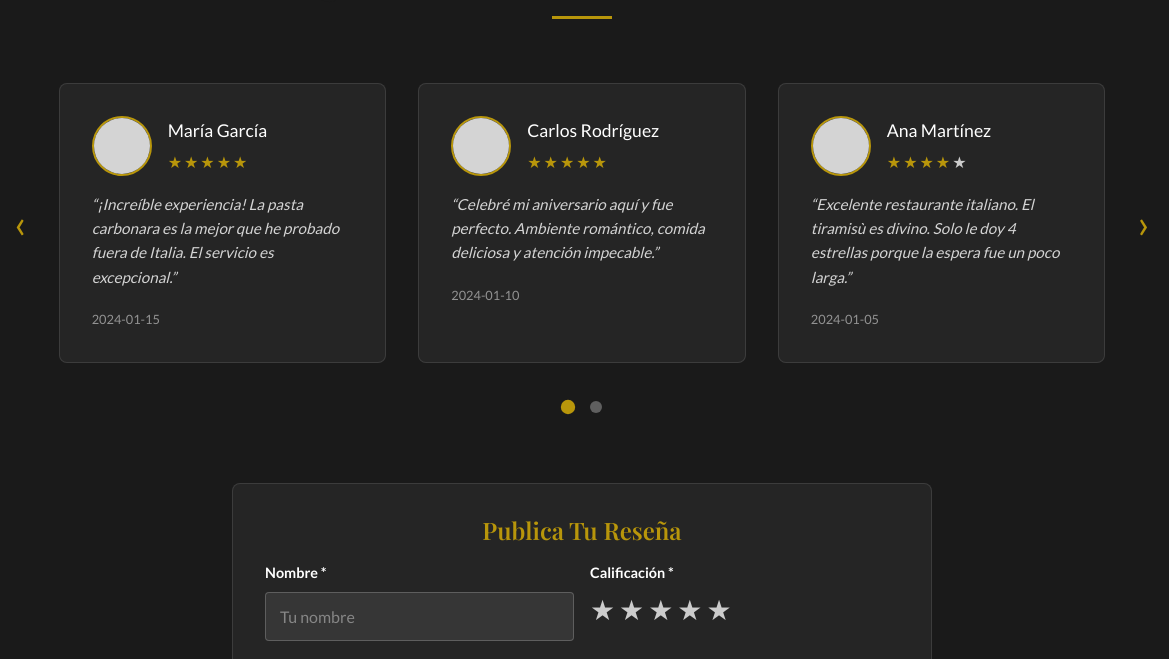
Test: Reviews › navigates to next slide
Click the button "›" at x=1144, y=223, box x1=1137 y1=199 x2=1150 y2=247
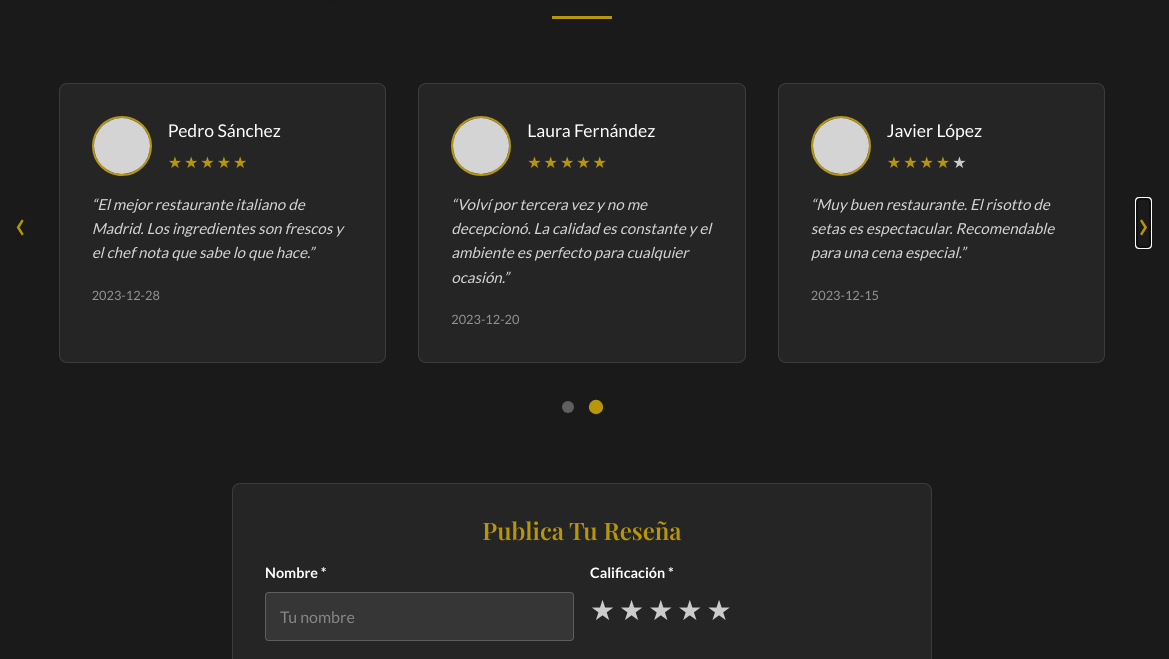
expect the text "Pedro Sánchez" is shown: met, box x1=168 y1=117 x2=281 y2=145
